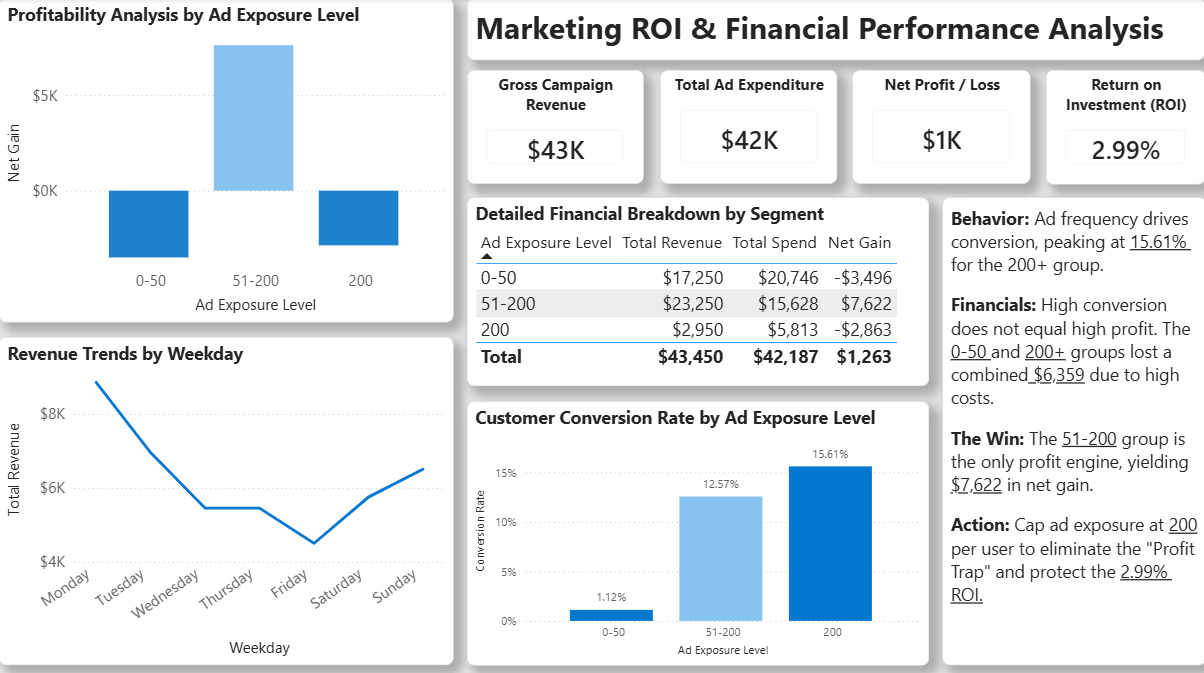

This screenshot's page, from the dashboard's own definition file:
{"tool":"powerbi","page":{"name":"Marketing ROI &  Financial Performance Analysis (Page 2)","canvas":[1280,720],"ordinal":1},"visuals":[{"type":"textbox","box":[497,0,782.4,66.1],"z":0},{"type":"cardVisual","title":"Gross Campaign Revenue","fields":{"Data":["marketing_AB_cleaned.Total Revenue"]},"box":[497,75.6,187.1,120.9],"z":1000},{"type":"cardVisual","title":"Total Ad Expenditure","fields":{"Data":["marketing_AB_cleaned.Total Spend"]},"box":[701,75.6,187.1,120.9],"z":2000},{"type":"cardVisual","title":"Net Profit / Loss","fields":{"Data":["marketing_AB_cleaned.Net Gain"]},"box":[905.1,75.6,189,120.9],"z":3000},{"type":"cardVisual","title":"Return on Investment (ROI)","fields":{"Data":["marketing_AB_cleaned.ROI %"]},"box":[1111,75.6,169,121],"z":4000},{"type":"clusteredColumnChart","title":"Profitability Analysis by Ad Exposure Level","fields":{"Category":["marketing_AB_cleaned.ads_bucket"],"Y":["marketing_AB_cleaned.Net Gain"]},"box":[0,0,482,344],"z":5000},{"type":"lineChart","title":"Revenue Trends by Weekday","fields":{"Category":["WeekdaySort.DayName"],"Y":["marketing_AB_cleaned.Total Revenue"]},"box":[0,360,482,348],"z":6000},{"type":"tableEx","title":"Detailed Financial Breakdown by Segment","fields":{"Values":["marketing_AB_cleaned.ads_bucket","marketing_AB_cleaned.Total Revenue","marketing_AB_cleaned.Total Spend","marketing_AB_cleaned.Net Gain"]},"box":[496,212,490,200],"z":7000},{"type":"clusteredColumnChart","title":"Customer Conversion Rate by Ad Exposure Level","fields":{"Category":["marketing_AB_cleaned.ads_bucket"],"Y":["marketing_AB_cleaned.Conversion Rate"]},"box":[496,428,490,280],"z":8000},{"type":"textbox","box":[1000,212,280,496],"z":9000}]}

Visuals, with their boxes in screenshot pixels (x1, y1, x2, y2), scaled from the page's 1280x720 canvas onto the 1204x673 screenshot:
textbox: [467,0,1203,62]
"Gross Campaign Revenue" cardVisual: [467,71,643,184]
"Total Ad Expenditure" cardVisual: [659,71,835,184]
"Net Profit / Loss" cardVisual: [851,71,1029,184]
"Return on Investment (ROI)" cardVisual: [1045,71,1203,184]
"Profitability Analysis by Ad Exposure Level" clusteredColumnChart: [0,0,453,322]
"Revenue Trends by Weekday" lineChart: [0,336,453,662]
"Detailed Financial Breakdown by Segment" tableEx: [467,198,927,385]
"Customer Conversion Rate by Ad Exposure Level" clusteredColumnChart: [467,400,927,662]
textbox: [941,198,1203,662]
